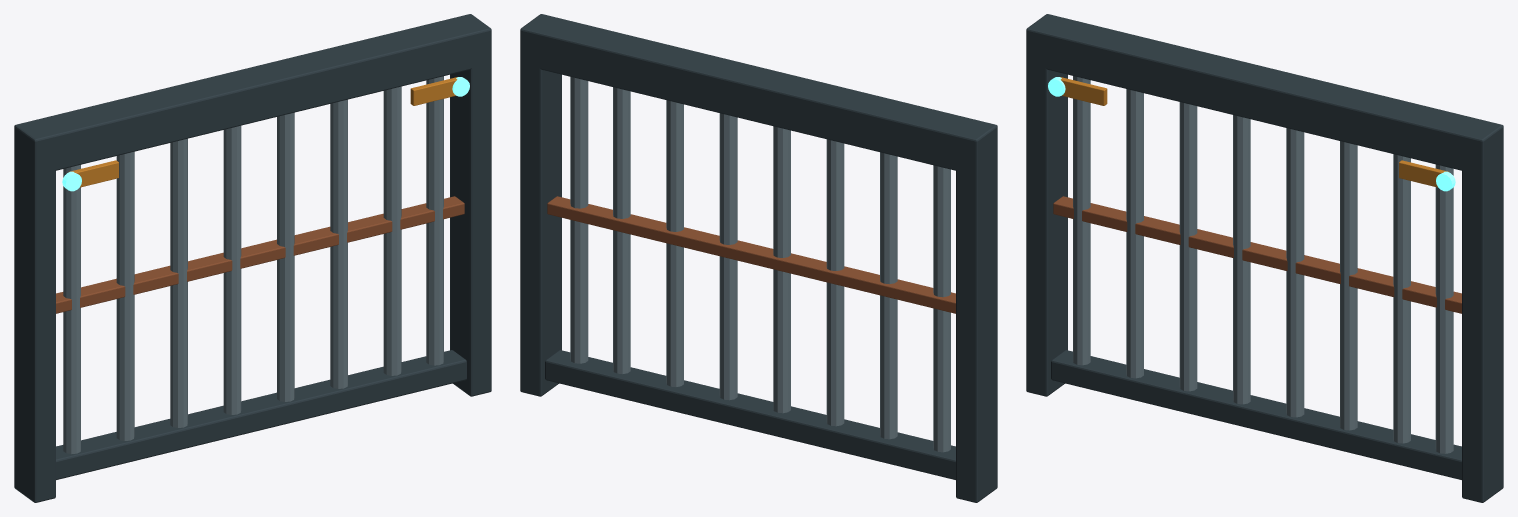
Rendered from security_grill_gate.glb.
3 renders of one model, left to right at view 1: azimuth 30°, elevation 25°; view 2: azimuth 150°, elevation 25°; view 3: azimuth 330°, elevation 25°, orthographic.
Parts seen in each view (by area): view 1: Grill top housing, Grill left jamb, Grill right jamb, Grill lower rail, Grill middle rail, Security grille bar.006, Security grille bar.003, Security grille bar.001, Security grille bar.004, Security grille bar.002, Security grille bar.005, Security grille bar (+3 smaller); view 2: Grill top housing, Grill left jamb, Grill right jamb, Grill lower rail, Grill middle rail, Security grille bar.007, Security grille bar.004, Security grille bar.002, Security grille bar, Security grille bar.003, Security grille bar.006, Security grille bar.001 (+1 smaller); view 3: Grill top housing, Grill right jamb, Grill left jamb, Grill lower rail, Grill middle rail, Security grille bar.002, Security grille bar.004, Security grille bar.001, Security grille bar.003, Security grille bar.005, Security grille bar.007, Security grille bar.006 (+3 smaller).
Part boxes in pixels (box(x1,y1,x2,y2)): Grill top housing: box(14, 14, 491, 174); Grill left jamb: box(14, 149, 55, 502); Grill right jamb: box(450, 63, 491, 396); Grill lower rail: box(56, 350, 466, 479); Grill middle rail: box(56, 196, 464, 313); Security grille bar.006: box(383, 86, 401, 375); Security grille bar.003: box(223, 125, 241, 414); Security grille bar.001: box(116, 151, 134, 440); Security grille bar.004: box(277, 112, 294, 401); Security grille bar.002: box(170, 138, 187, 427); Security grille bar.005: box(330, 99, 347, 388); Security grille bar: box(63, 165, 80, 454); Grill top housing: box(520, 14, 997, 174); Grill left jamb: box(956, 149, 997, 502); Grill right jamb: box(520, 52, 561, 396); Grill lower rail: box(545, 350, 955, 479); Grill middle rail: box(547, 196, 955, 313); Security grille bar.007: box(570, 77, 588, 363); Security grille bar.004: box(719, 113, 737, 400); Security grille bar.002: box(826, 139, 844, 426); Security grille bar: box(933, 165, 950, 452); Security grille bar.003: box(773, 126, 790, 413); Security grille bar.006: box(613, 87, 630, 373); Security grille bar.001: box(880, 152, 897, 439); Grill top housing: box(1026, 14, 1503, 174); Grill right jamb: box(1462, 149, 1503, 502); Grill left jamb: box(1026, 52, 1067, 396); Grill lower rail: box(1051, 350, 1461, 479); Grill middle rail: box(1053, 196, 1461, 313); Security grille bar.002: box(1179, 102, 1197, 391); Security grille bar.004: box(1286, 128, 1304, 417); Security grille bar.001: box(1126, 89, 1143, 378); Security grille bar.003: box(1233, 115, 1250, 404); Security grille bar.005: box(1340, 141, 1357, 430); Security grille bar.007: box(1435, 164, 1453, 453); Security grille bar.006: box(1393, 154, 1410, 443).
Size of the model in its own units: 4.2 by 3.19 by 0.4075.
